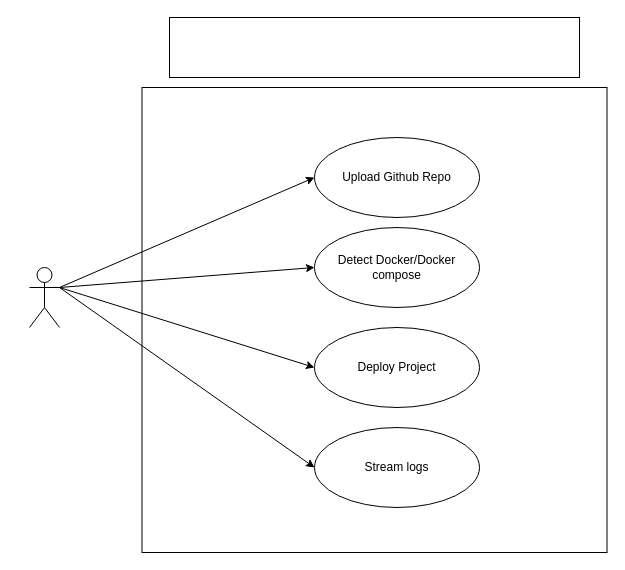
Image size: 625x570. Some labels were removed from this diagram. The shapes that lost their labels are listed below. From the top down, each one's centre as x and y in pixels, then its label:
[374,47]: DEVOPS BUTLER
[44,297]: Developer
